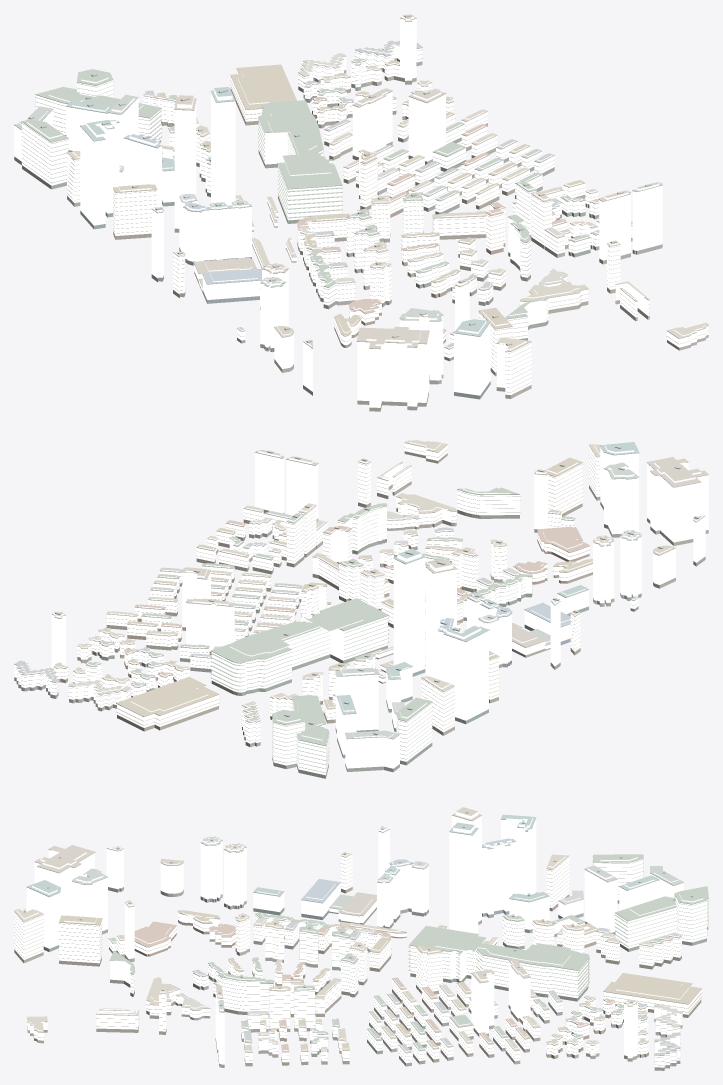
File: buildings--11_-4-fine.glb
3 renders of one model, top to bottom at view 1: azimuth 30°, elevation 25°; view 2: azimuth 150°, elevation 25°; view 3: azimuth 270°, elevation 25°, orthographic. The views are drawn at different scales.
Parts seen in each view (by area): view 1: block_-11_-4_residential, block_-11_-4_office, block_-11_-4_roof, block_-11_-4_darkglass, block_-11_-4_concrete, block_-11_-4_steel; view 2: block_-11_-4_residential, block_-11_-4_office, block_-11_-4_roof, block_-11_-4_darkglass, block_-11_-4_concrete, block_-11_-4_steel; view 3: block_-11_-4_residential, block_-11_-4_roof, block_-11_-4_office, block_-11_-4_darkglass, block_-11_-4_concrete, block_-11_-4_steel.
Boxes of the visible parts, x1,y1,x2,y2 form: block_-11_-4_residential: (22,43,708,394); block_-11_-4_office: (14,16,662,407); block_-11_-4_roof: (14,14,708,407); block_-11_-4_darkglass: (14,58,708,411); block_-11_-4_concrete: (21,45,708,392); block_-11_-4_steel: (14,18,662,349); block_-11_-4_residential: (14,442,638,775); block_-11_-4_office: (51,445,708,768); block_-11_-4_roof: (14,440,708,774); block_-11_-4_darkglass: (14,451,708,778); block_-11_-4_concrete: (14,442,637,772); block_-11_-4_steel: (52,446,708,739); block_-11_-4_residential: (14,853,708,1067); block_-11_-4_roof: (14,807,708,1067); block_-11_-4_office: (26,812,683,1064); block_-11_-4_darkglass: (14,887,708,1070); block_-11_-4_concrete: (14,854,708,1065); block_-11_-4_steel: (27,815,683,1012).
Bounding box in the file's own units: 407 × 118 × 659.
